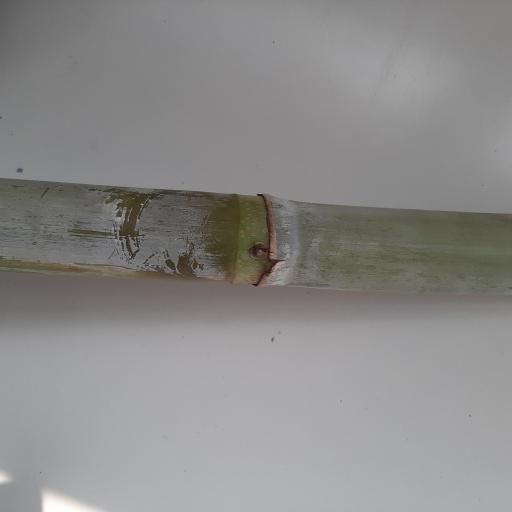Bud: (246, 240, 270, 260)
